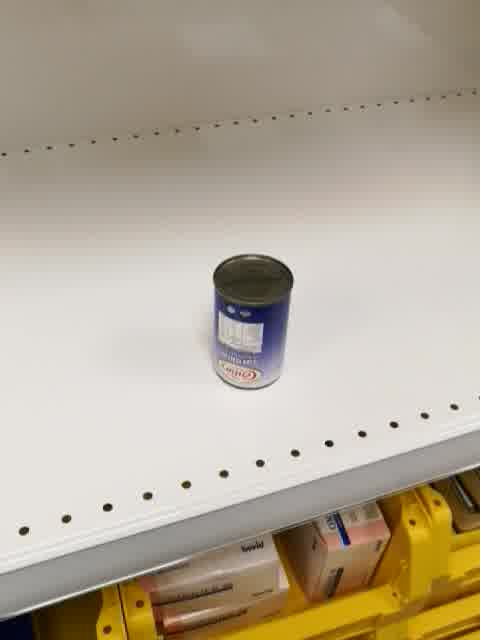sardine: (211, 253, 295, 391)
